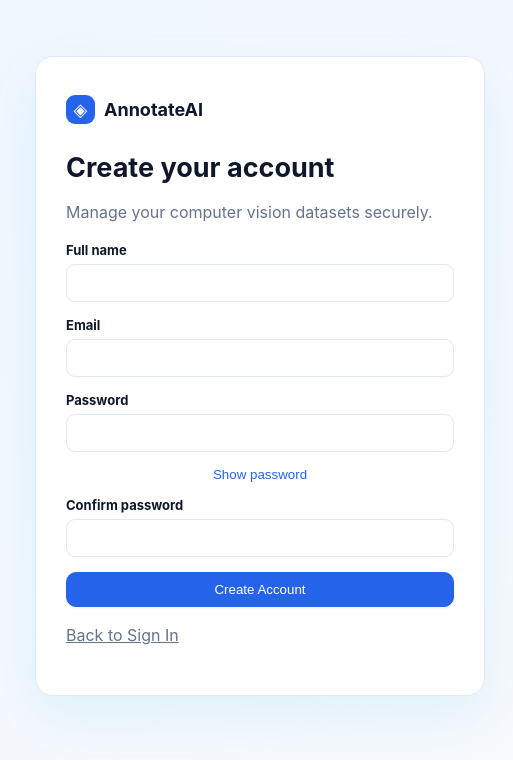
Scenario: rejects mismatched registration without making a request
The width and height of the screenshot is (513, 760).
Step 1. Type "User" into the field labelled "Full name" → (260, 283), box [66,264,454,302]
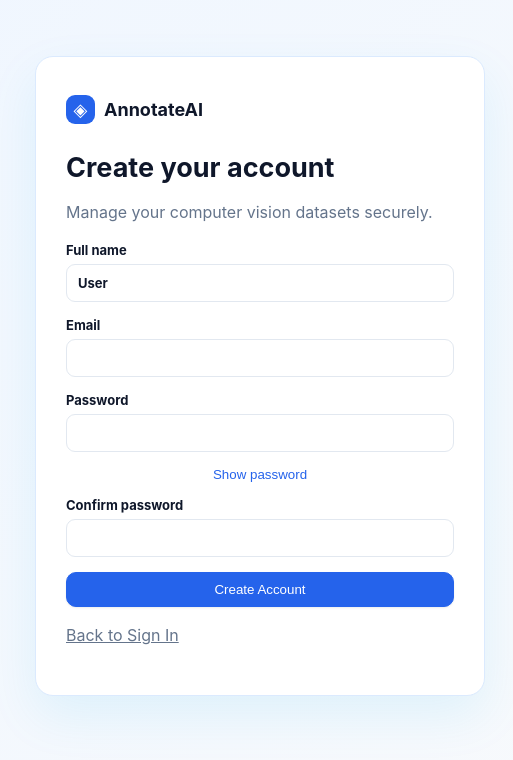
Step 2. Type "user@example.com" into the field labelled "Email" → (260, 358), box [66,339,454,377]
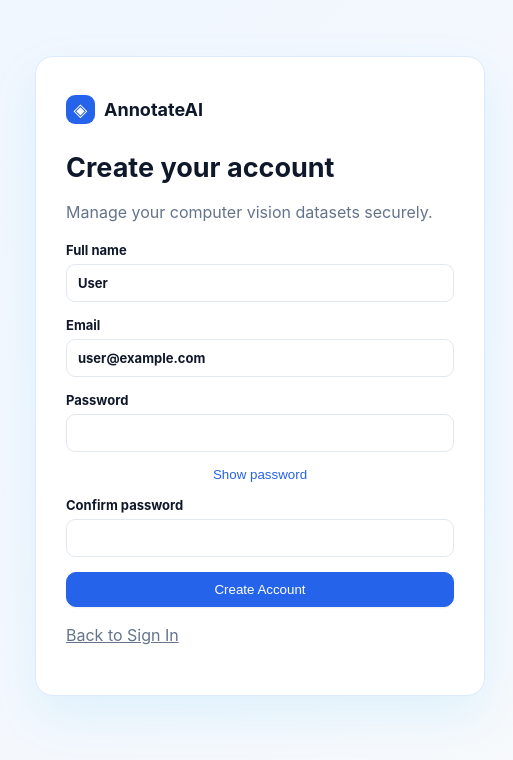
Step 3. Type "long password one" into the password field labelled "Password" → (260, 433), box [66,414,454,452]
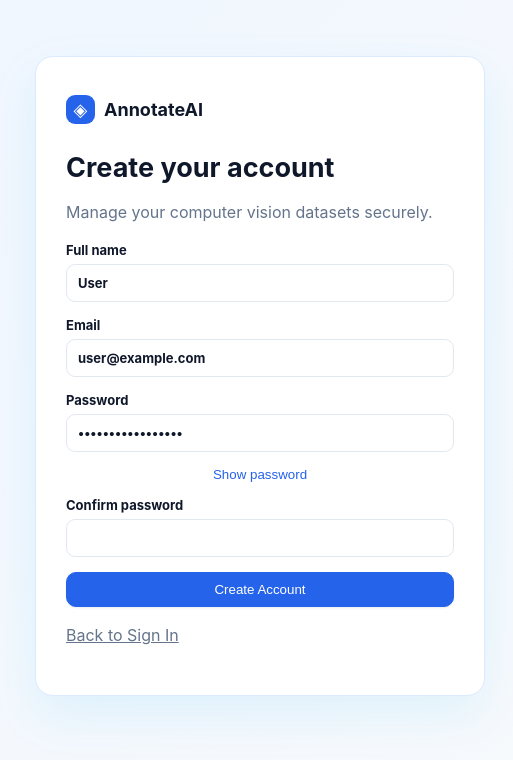
Step 4. Type "long password two" into the password field labelled "Confirm password" → (260, 538), box [66,519,454,557]
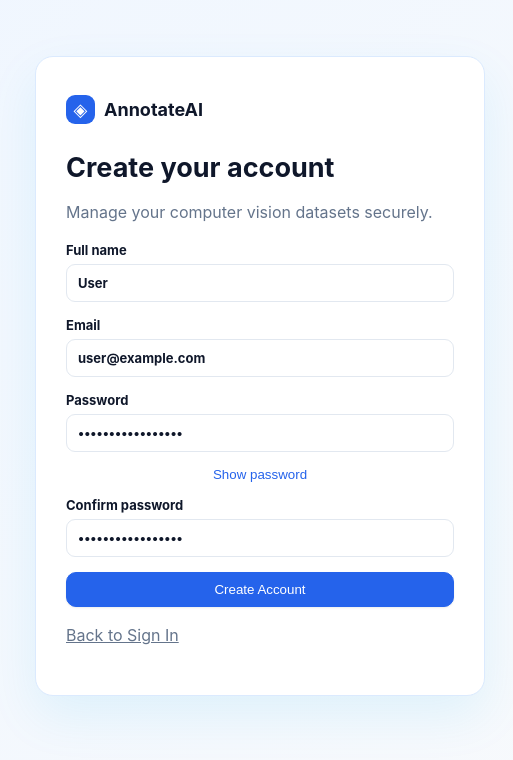
Step 5. Submit the form "Create Account", box [66,242,454,607]
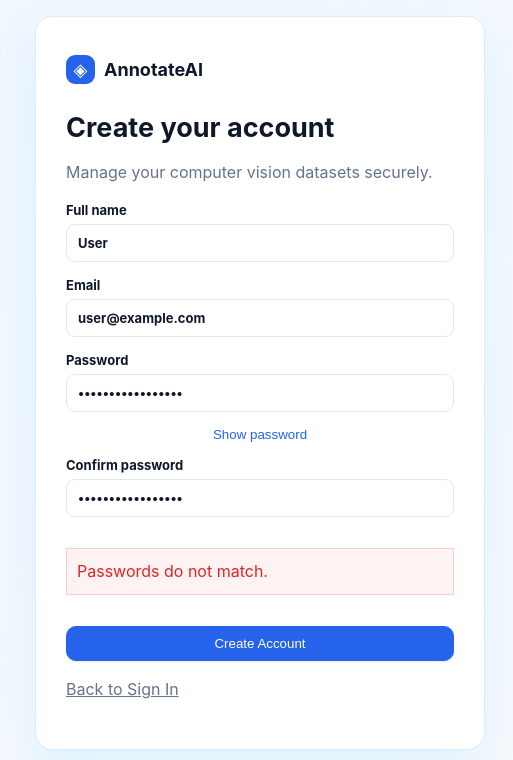
Now the message shows "do not match", box [77,561,268,581]
